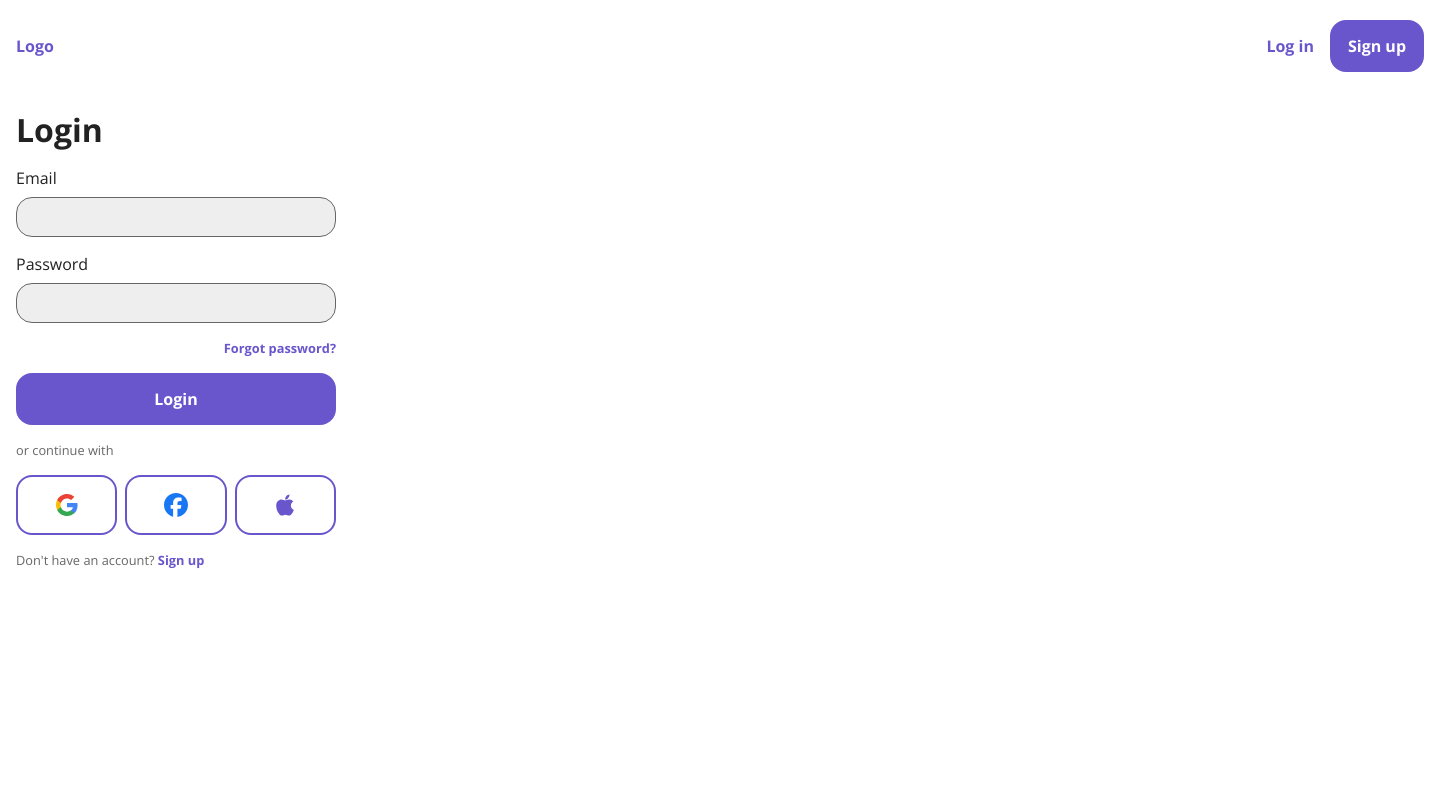
it: App routing › logs in and navigates home
The image size is (1440, 810).
In the field labelled "Email": coordinates (176, 217) [16,197,336,237], type "ada@example.com"
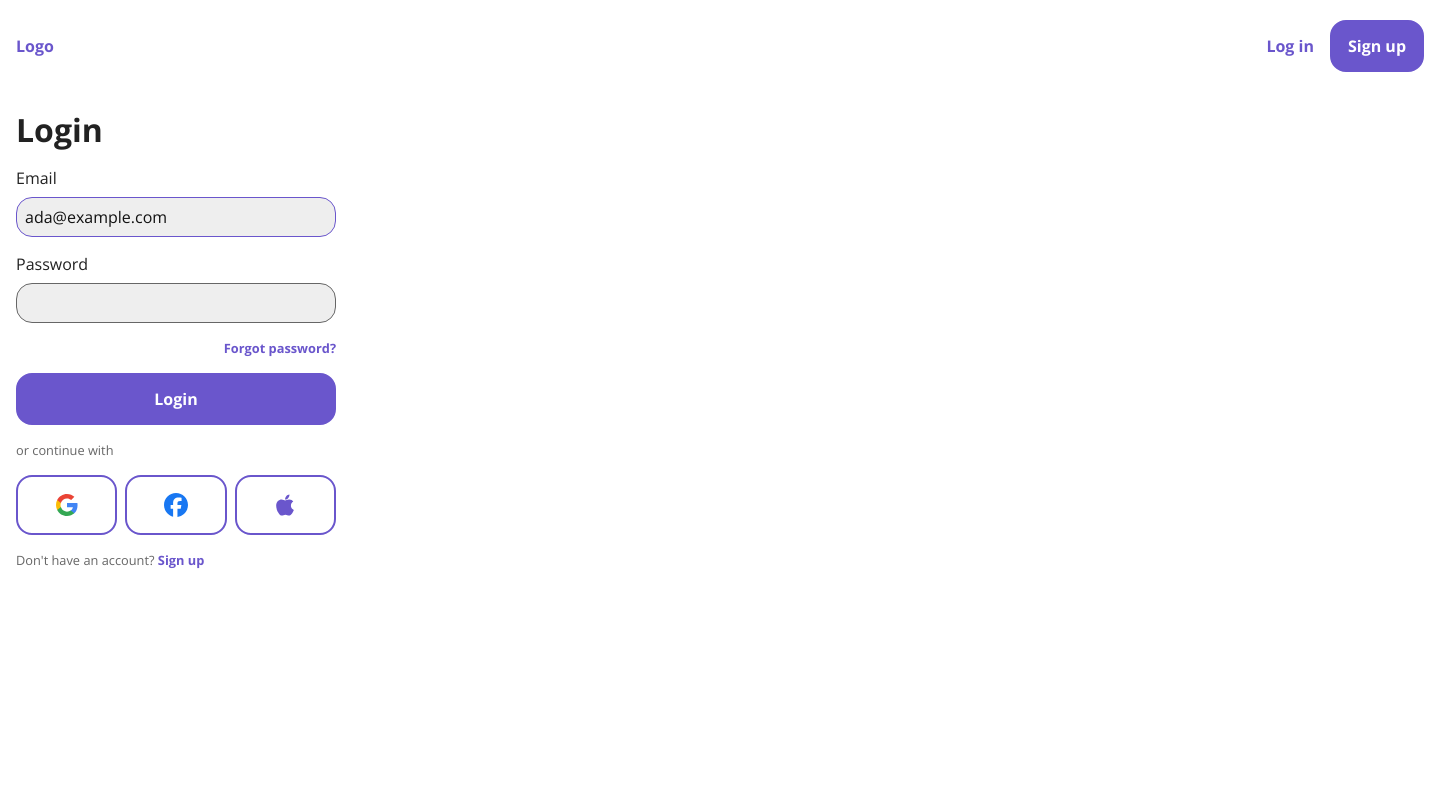
In the password field labelled "Password": coordinates (176, 303) [16,283,336,323], type "secret"
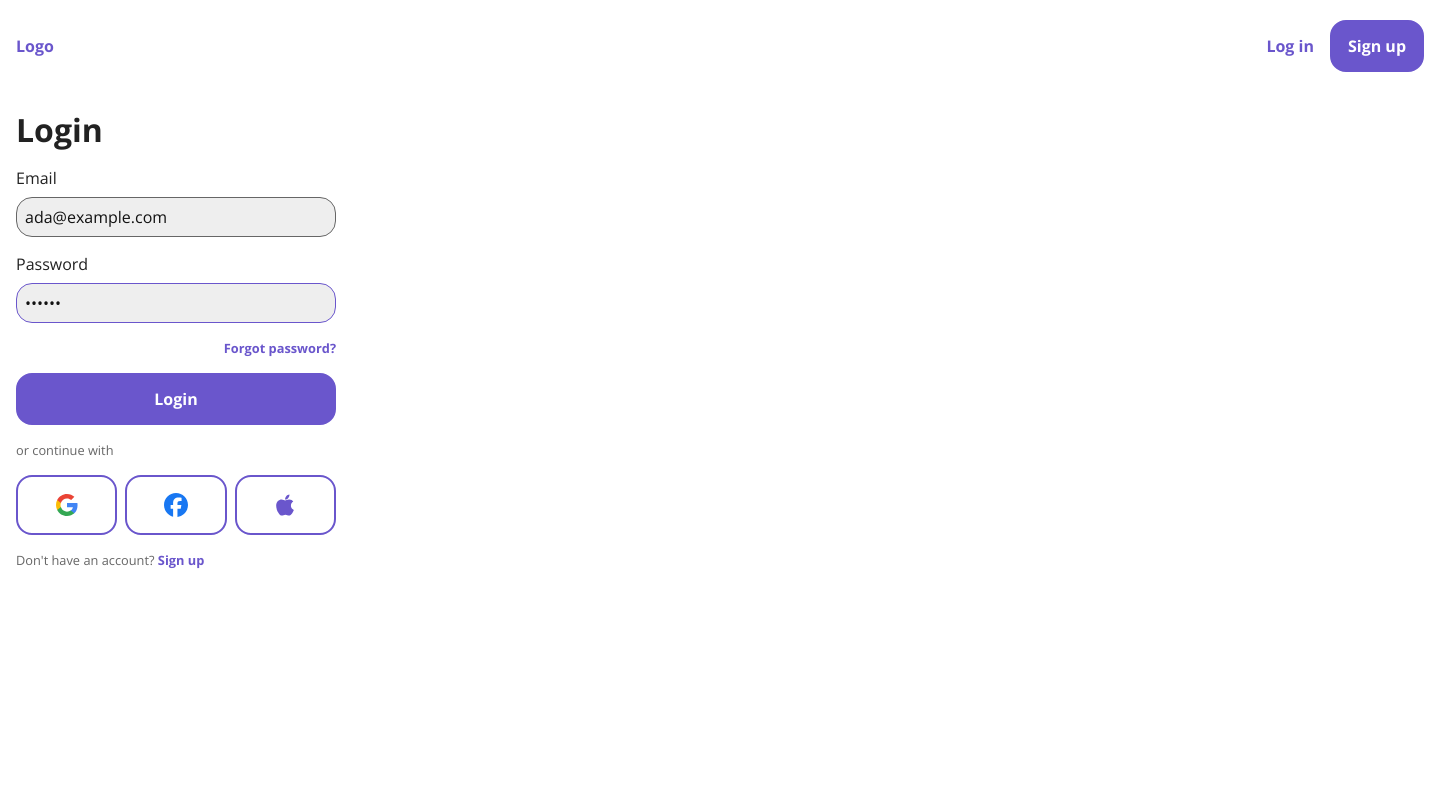
Click the button "Login": coordinates (176, 399) [16,373,336,425]
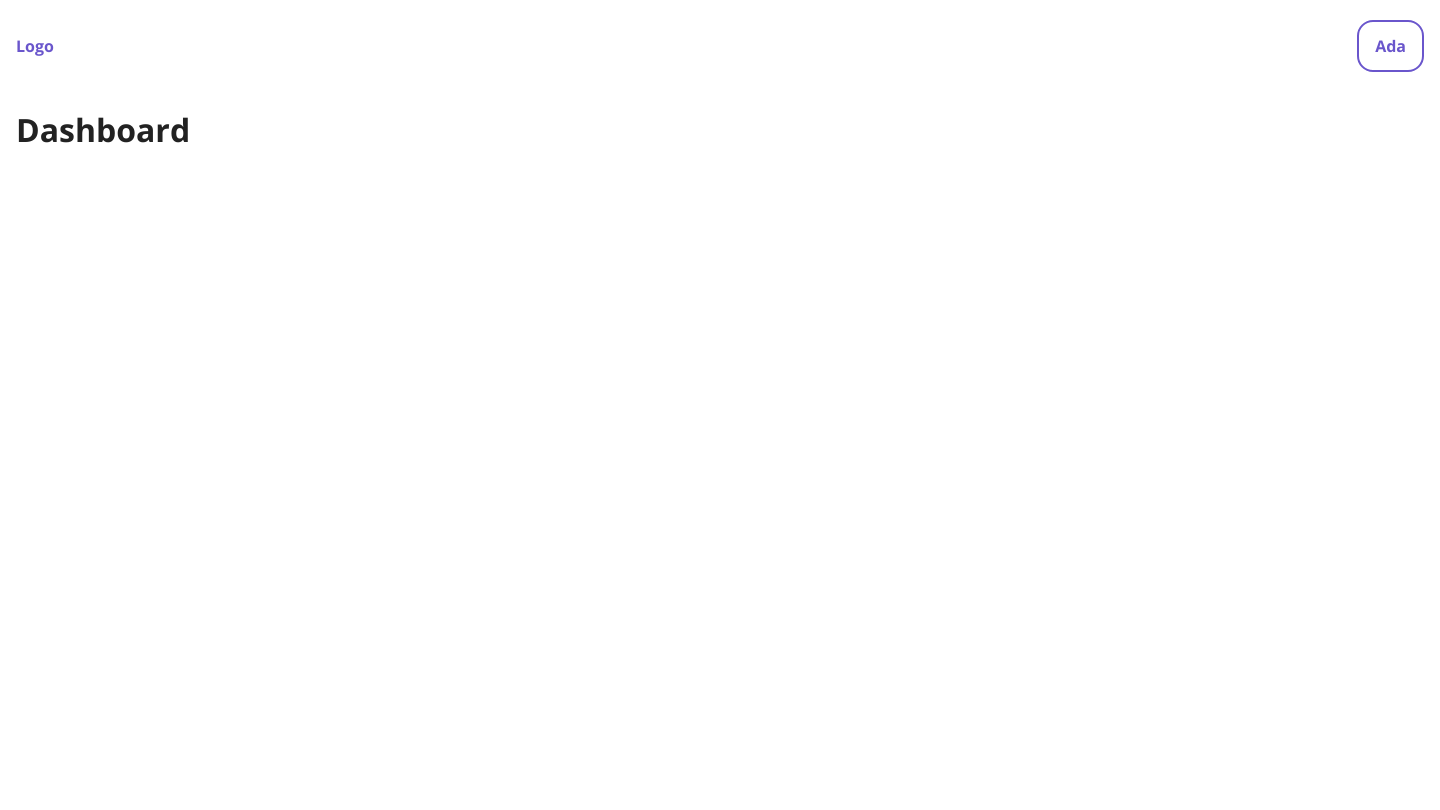
Check: the heading "Dashboard" is shown, box [16,108,190,151]
